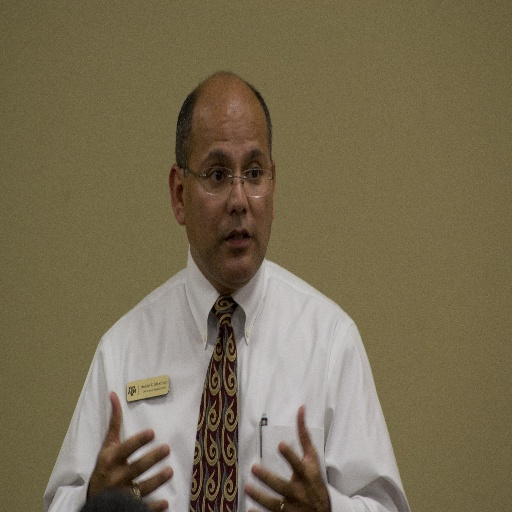hand: (85, 389, 174, 511), (245, 405, 331, 511)
